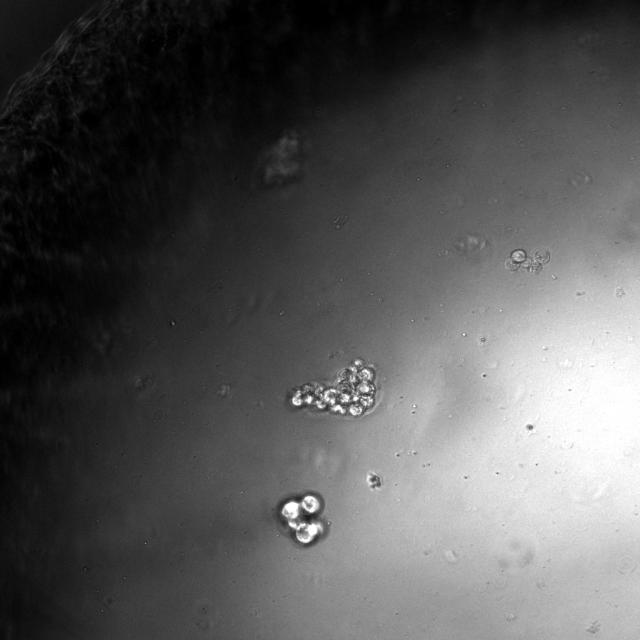organoid: (288, 358, 376, 417), (254, 129, 304, 187), (278, 492, 328, 546), (504, 247, 551, 274), (368, 472, 382, 490)
